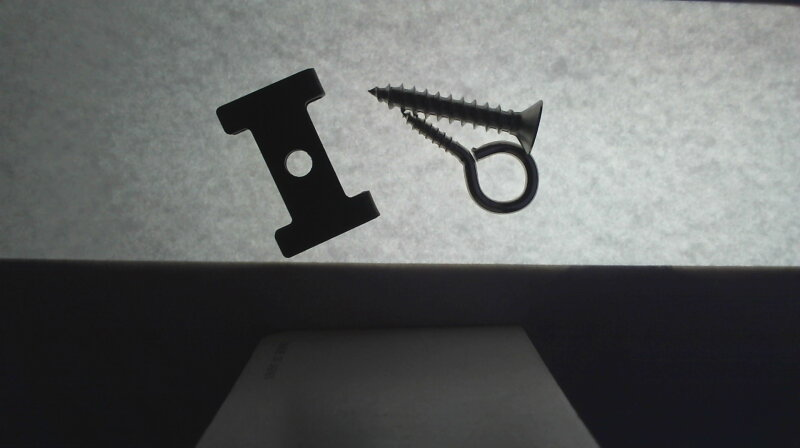O001: (400, 111, 538, 213)
O002: (213, 66, 381, 258)
S001: (366, 83, 543, 152)
